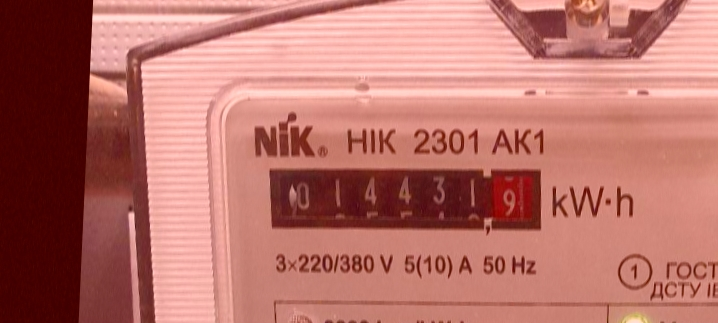0: (290, 177, 312, 211)
1: (326, 174, 346, 208), (464, 175, 478, 208)
3: (427, 173, 447, 206)
4: (357, 172, 380, 206), (393, 171, 412, 206)
9: (497, 184, 516, 216)
screen: (256, 149, 555, 248)
